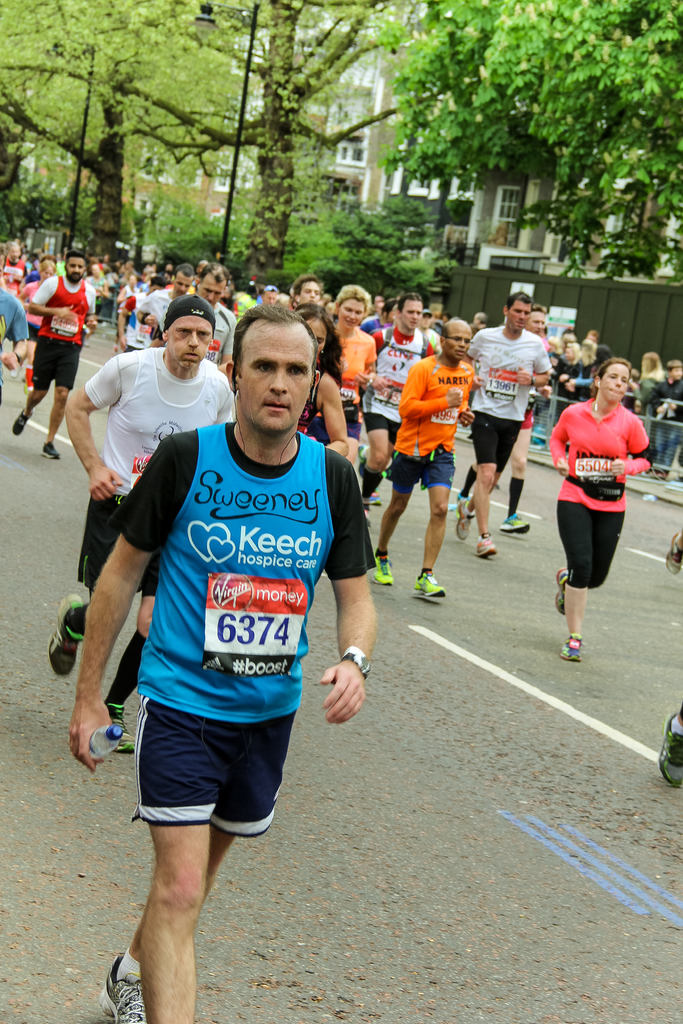Footwear: (44, 587, 88, 676), (99, 960, 148, 1023), (368, 552, 395, 586), (412, 573, 442, 599)
